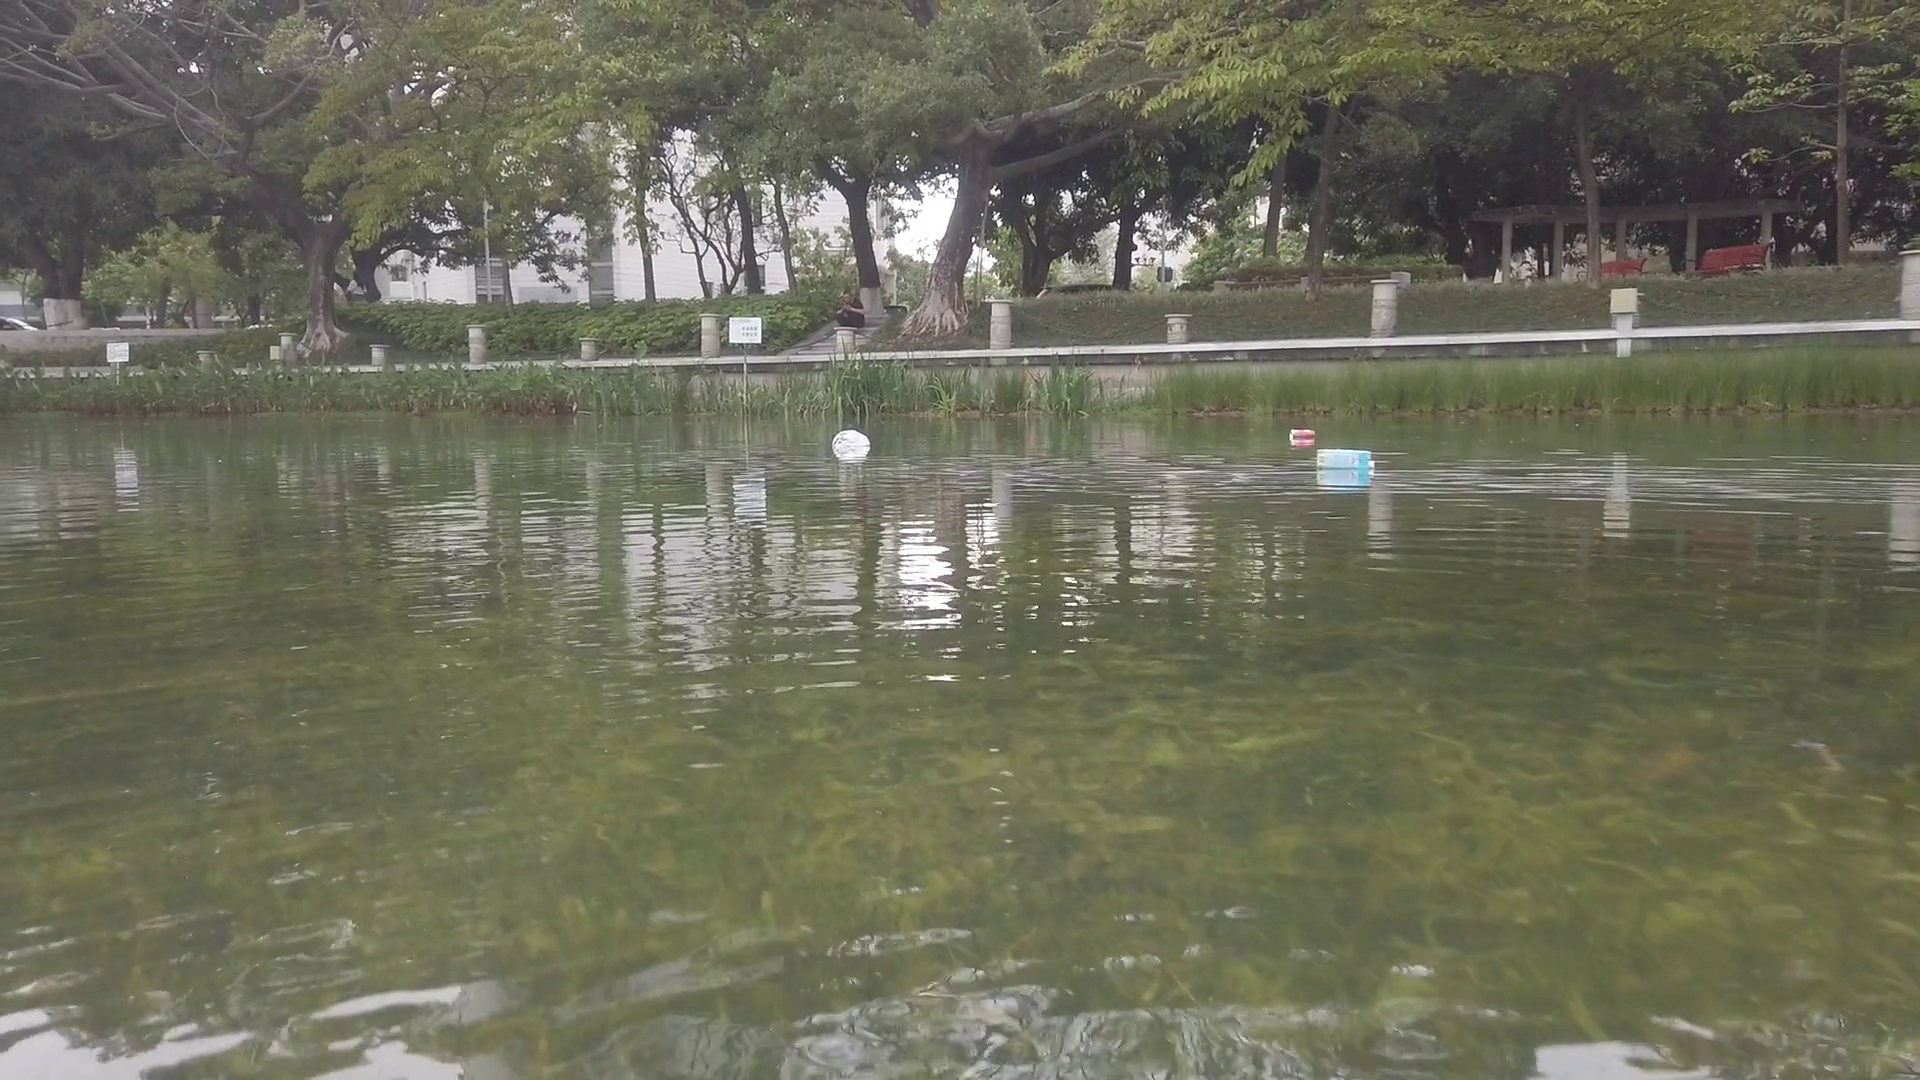bottle: (1288, 429, 1317, 439)
carton: (1317, 447, 1374, 469)
plastic: (831, 430, 872, 447)
